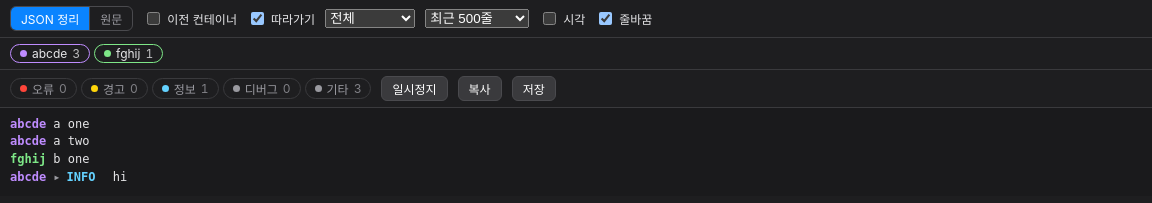
Test: controls › the time sits after the source prefix and before json rows' own fields
What coordinates should you click on to do the following:
click the checkbox labelled "시각"
I would click on:
 (550, 18)
Its box is x1=543 y1=12 x2=556 y2=25.
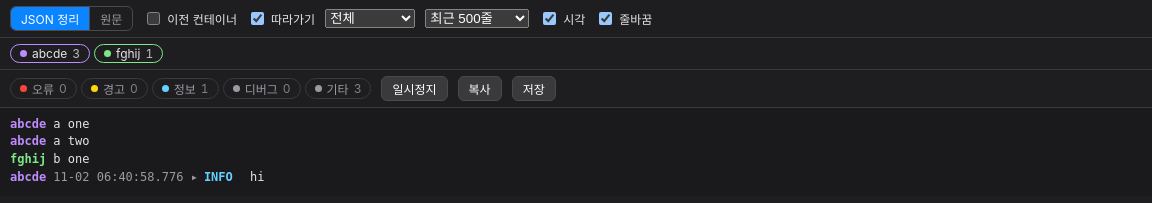
expect the element with class "lj-row" reads "abcde 11-02 06:40:58.776 ▸ info hi": met, box x1=10 y1=169 x2=264 y2=187
